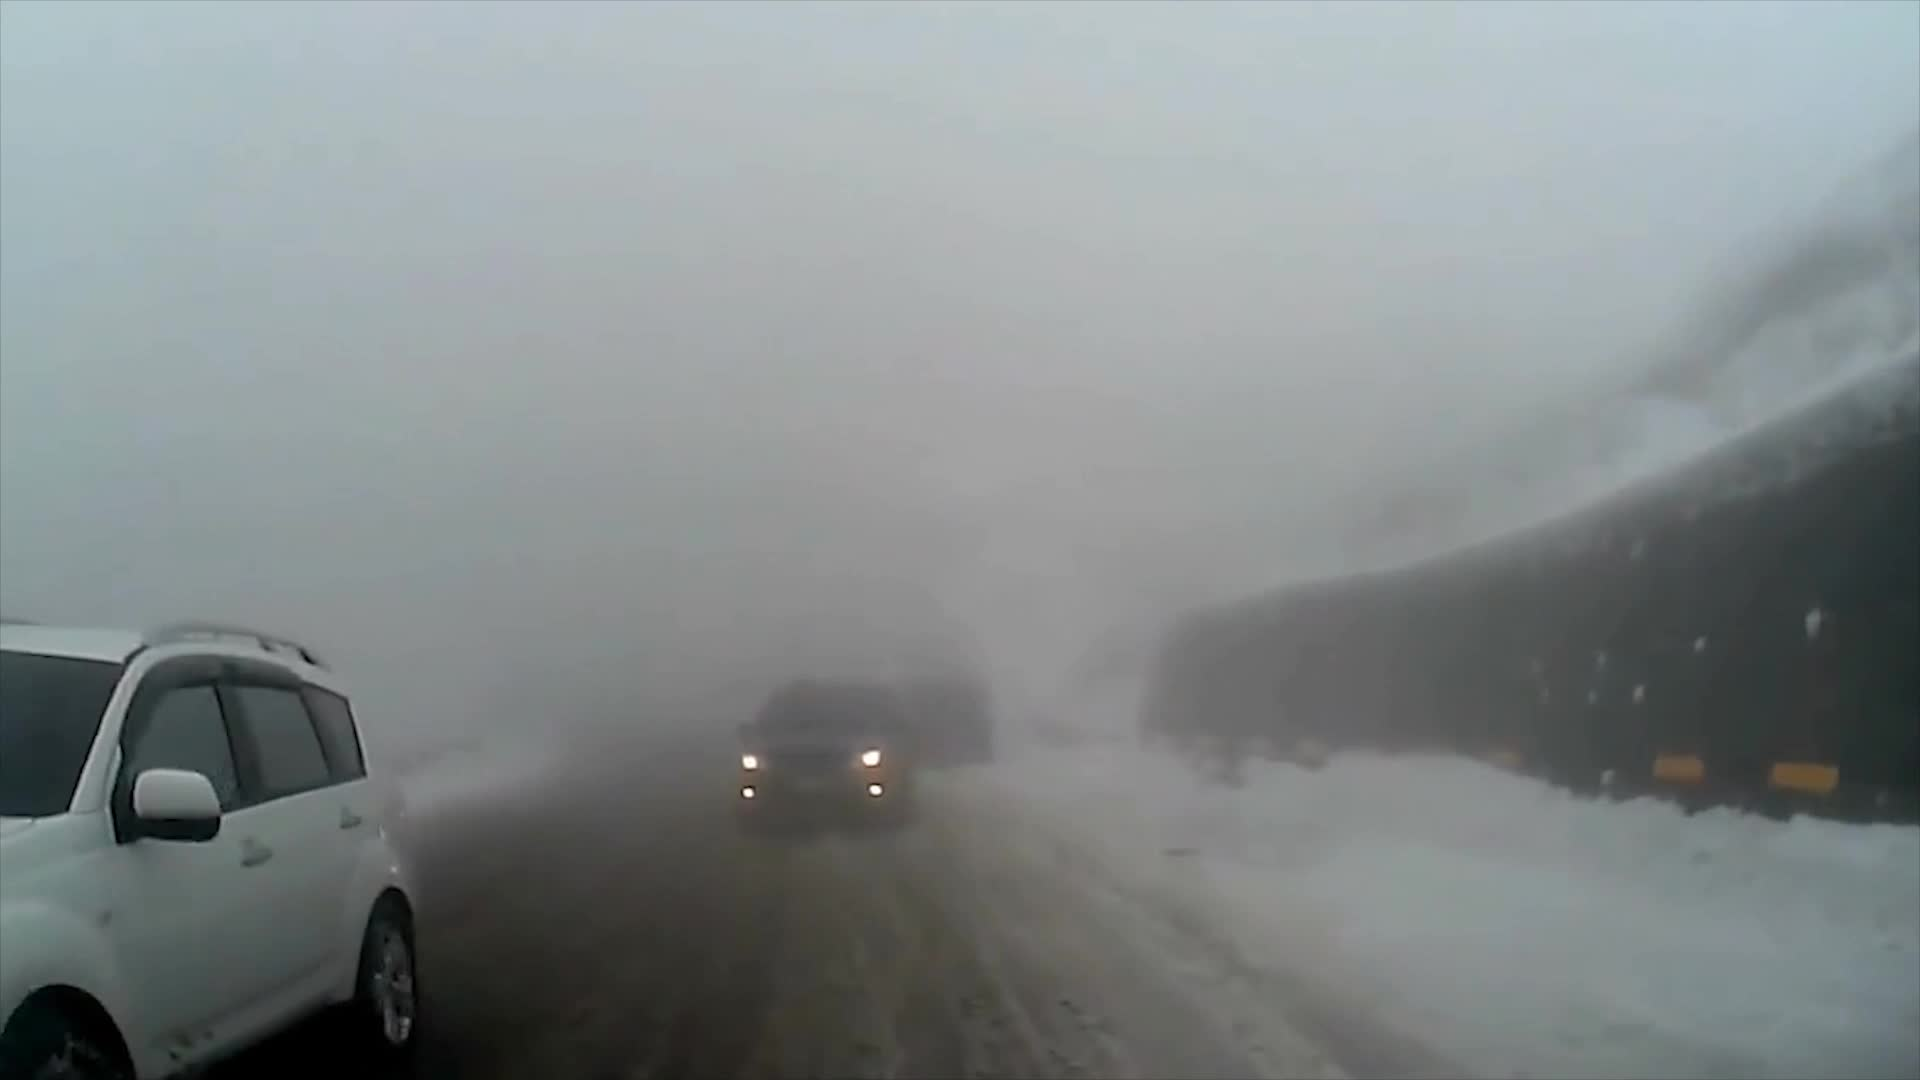vehicle: (0, 615, 425, 1080), (729, 676, 916, 837)
